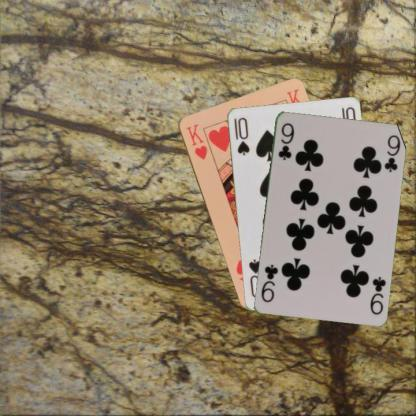10s: (231, 115, 251, 156)
9c: (366, 273, 386, 316), (275, 120, 295, 162)
Kh: (183, 121, 209, 162)
